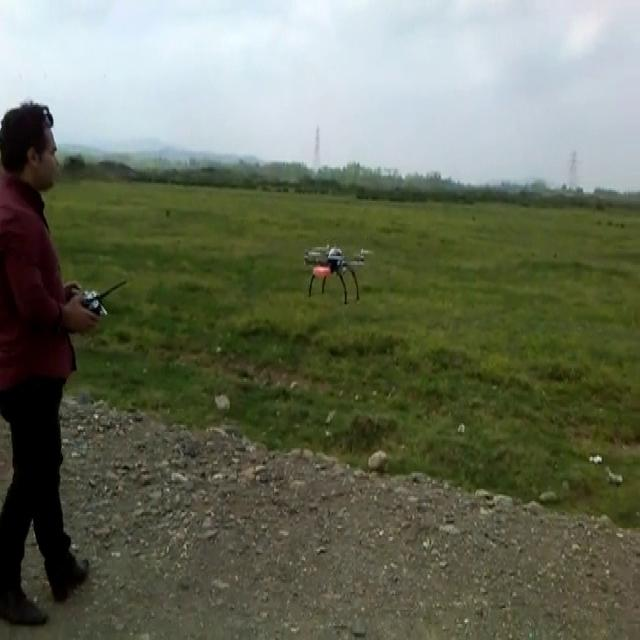drone: (299, 238, 375, 302)
